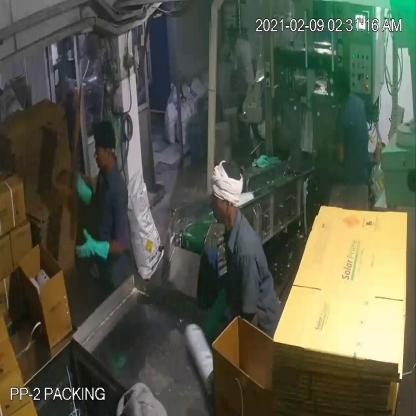glove: (197, 273, 234, 345), (69, 221, 117, 273), (70, 165, 96, 207)
